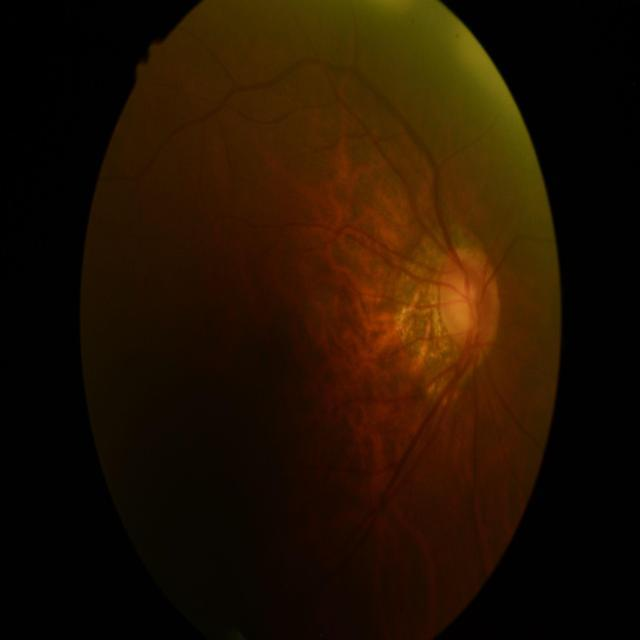cup: (446, 266, 483, 336)
disk: (439, 248, 498, 348)
